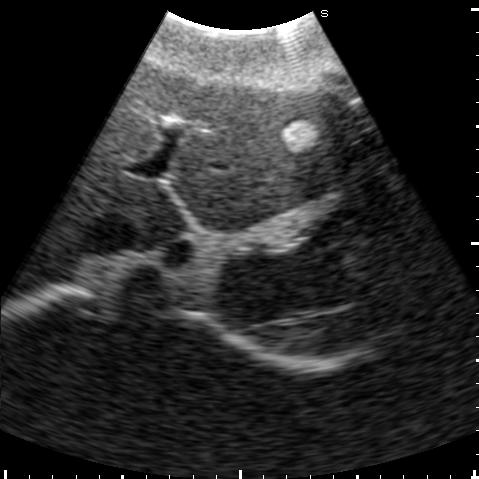IVC: (84, 212, 139, 255)
S1: (130, 184, 187, 248)
S2: (170, 146, 391, 233)
S3: (172, 76, 382, 193)
Tumor: (281, 121, 319, 152)
